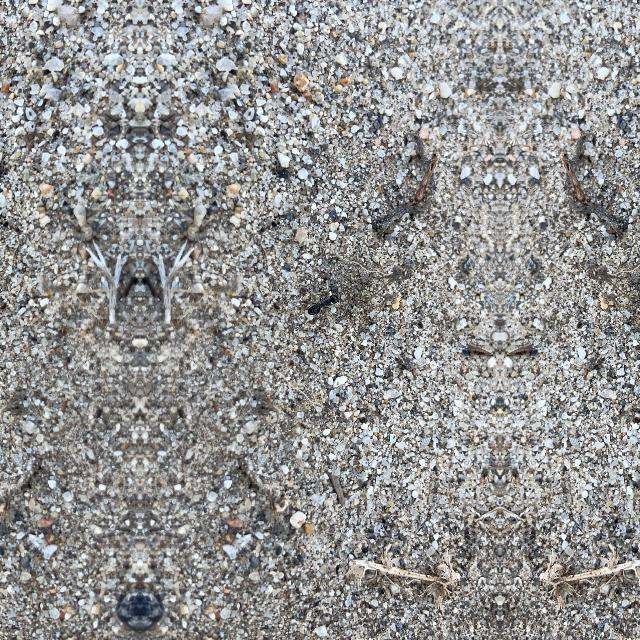Messor: (304, 288, 346, 318)
